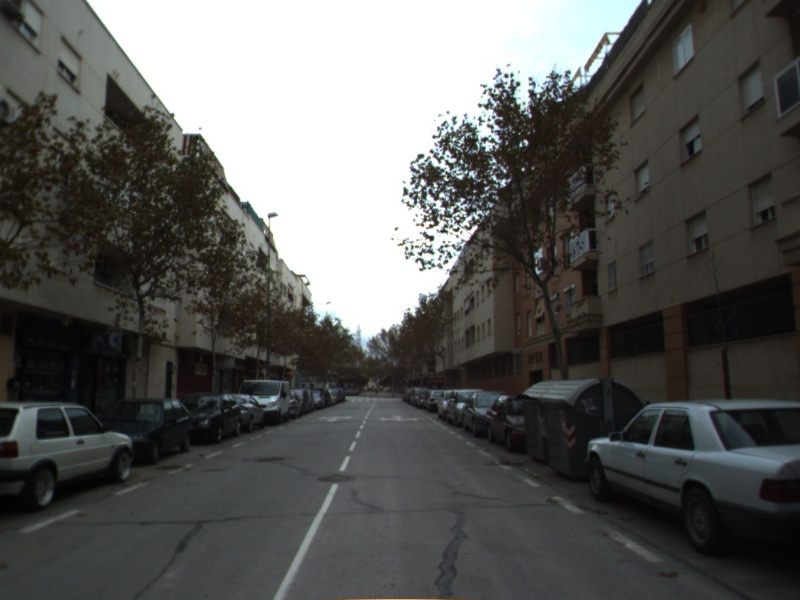STRAIGHT_LEFT_RIGHT: (377, 413, 421, 424)
